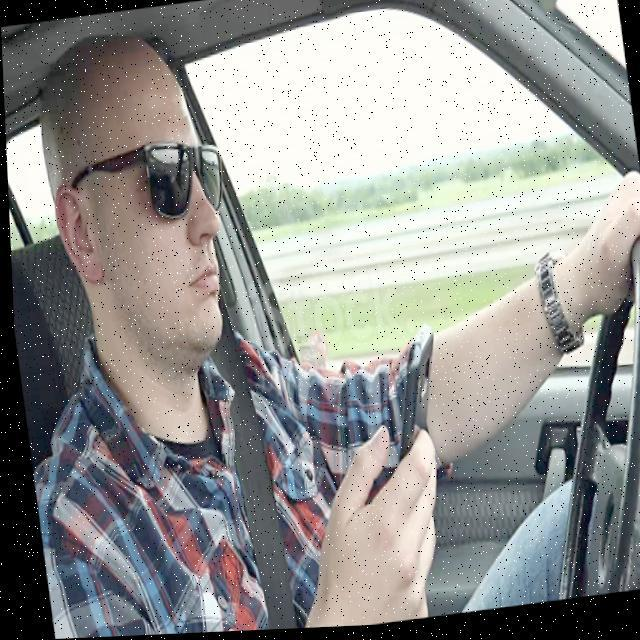PhoneCall: (373, 326, 448, 484)
